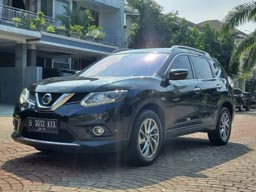plat: (27, 119, 58, 127)
